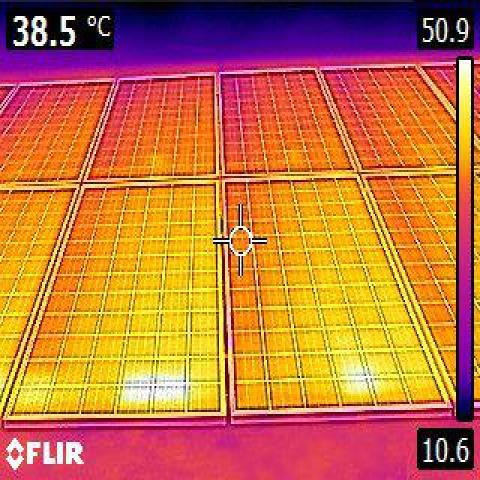fault: (120, 376, 151, 402), (156, 376, 184, 403)
